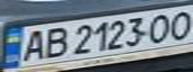1: (90, 18, 112, 53)
2: (69, 21, 97, 56), (106, 16, 130, 51)
3: (124, 15, 151, 47)
A: (15, 27, 51, 63)
B: (39, 25, 69, 61)
O: (163, 8, 193, 41), (145, 11, 175, 44)
